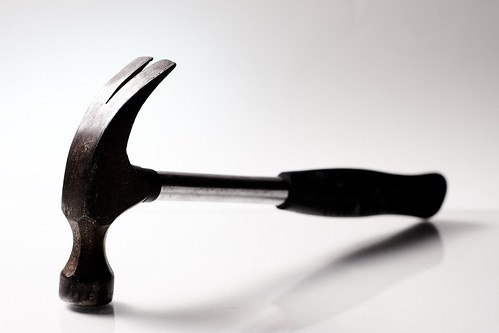hammer: (56, 51, 449, 313)
